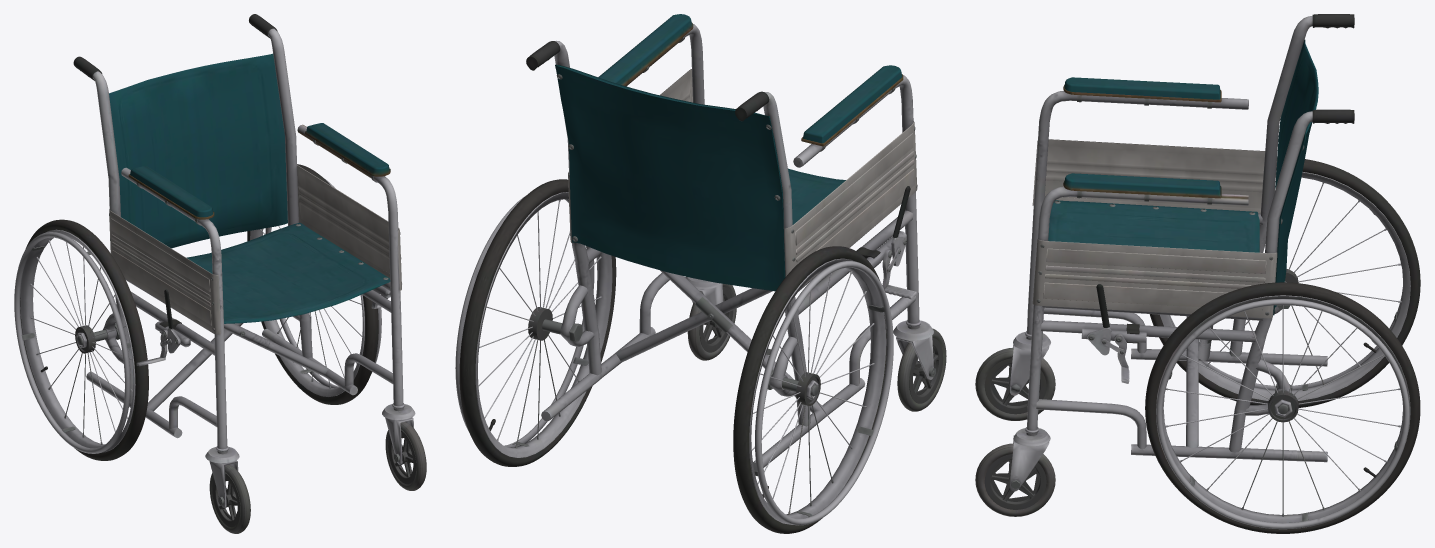
File: wheelchair_01.glb
3 views of the same model, side by side, from view 1: azimuth 30°, elevation 25°; view 2: azimuth 150°, elevation 25°; view 3: azimuth 270°, elevation 25° (orthographic). The views are drawn at different scales.
Parts seen in each view (by area): view 1: wheelchair_01; view 2: wheelchair_01; view 3: wheelchair_01.
Boxes of the visible parts, left/top/right/bottom form: wheelchair_01: left=14, top=14, right=426, bottom=533; wheelchair_01: left=455, top=14, right=946, bottom=533; wheelchair_01: left=975, top=14, right=1420, bottom=533.
Size of the model in its own units: 0.8241 by 1.1 by 1.09.
1 material, 1 textured.
